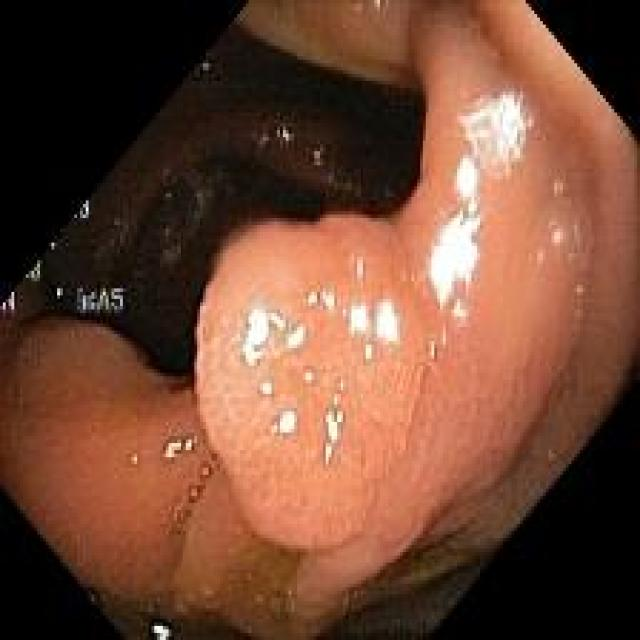Polyps: (195, 217, 420, 550)
